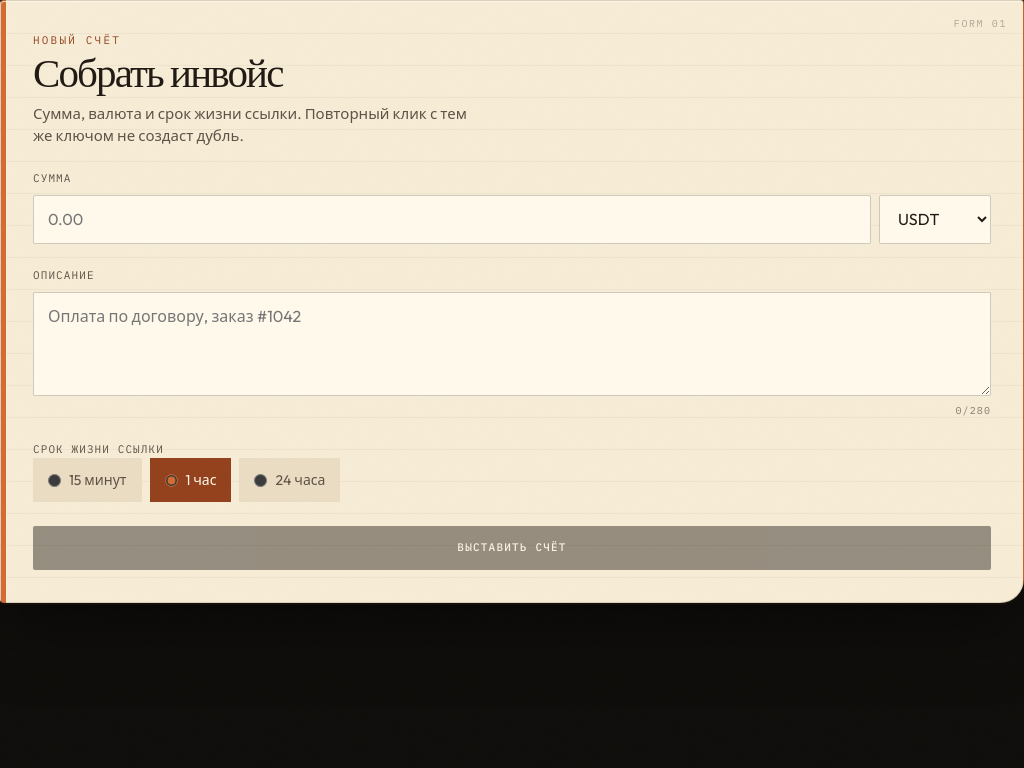
it: InvoiceForm › shows a validation alert for zero amount
The image size is (1024, 768).
Step 1. Type "0" into the field with placeholder "0.00" → coordinates (452, 220), box [33,195,871,244]
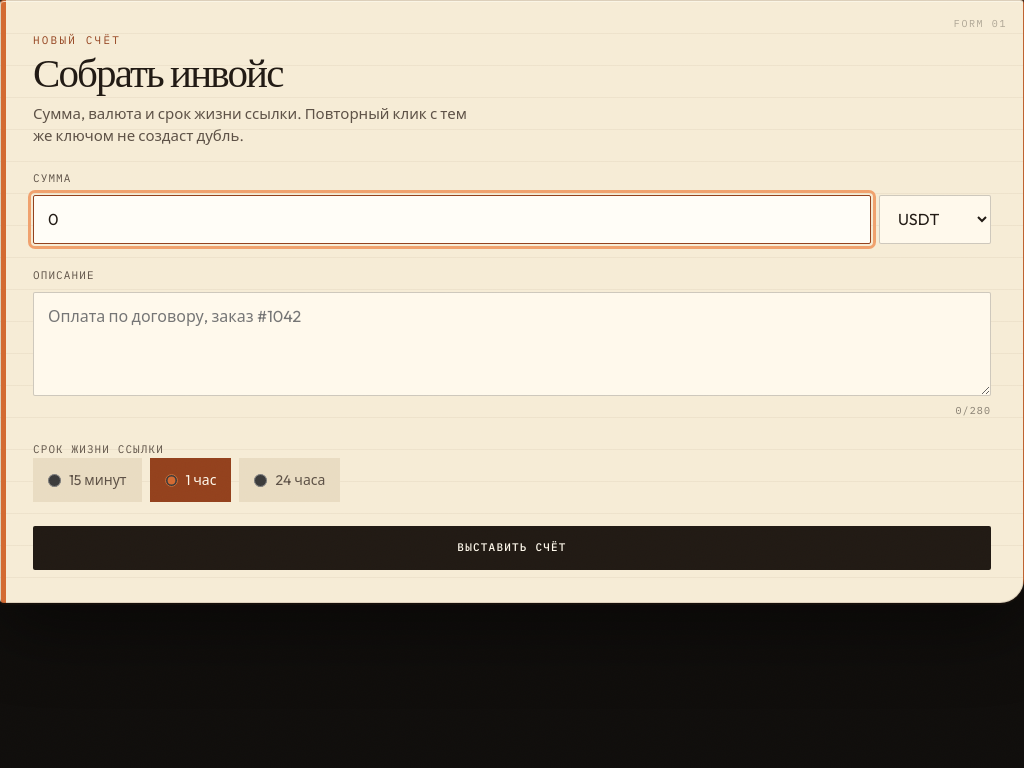
Step 2. Click the button "Выставить счёт" → coordinates (512, 548), box [33,526,991,570]
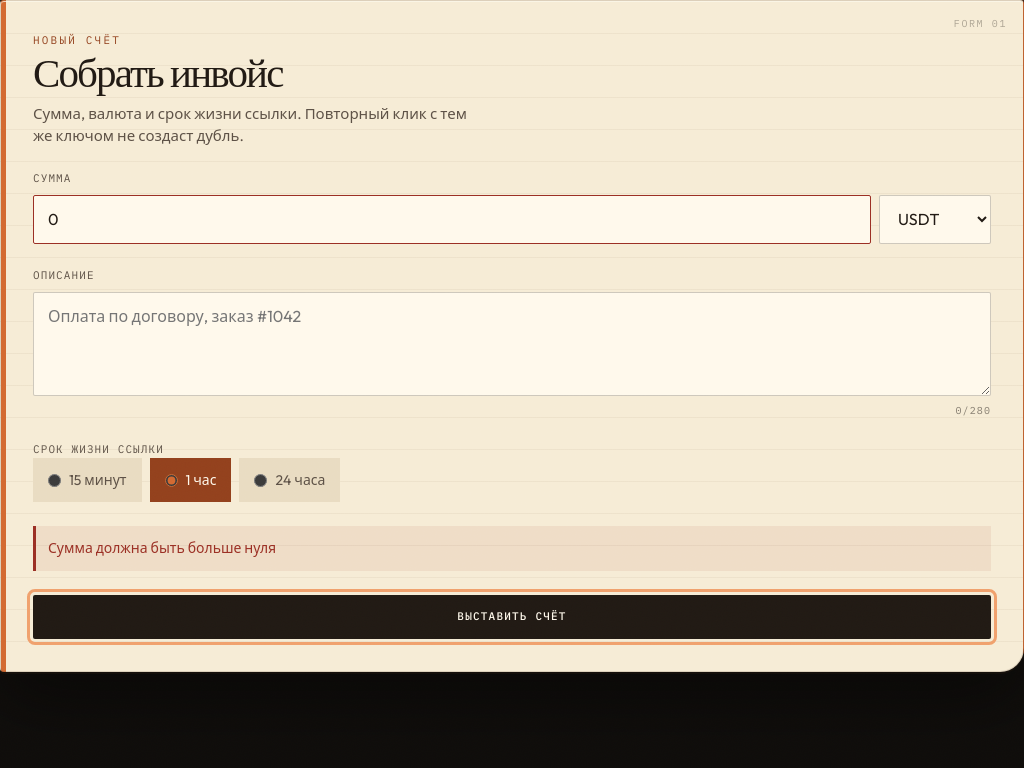
Expected: the message reads "Сумма должна быть больше нуля", [48,539,276,557]
